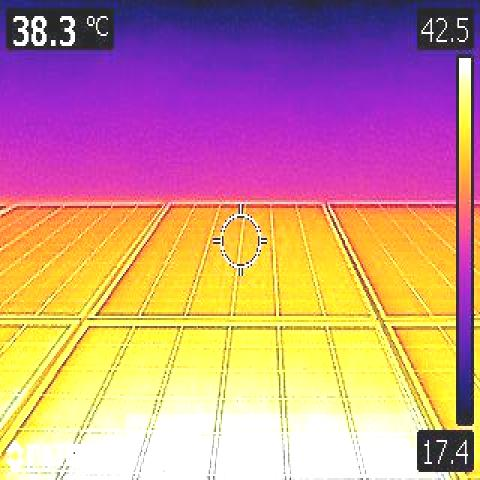fault: (125, 414, 410, 478)
